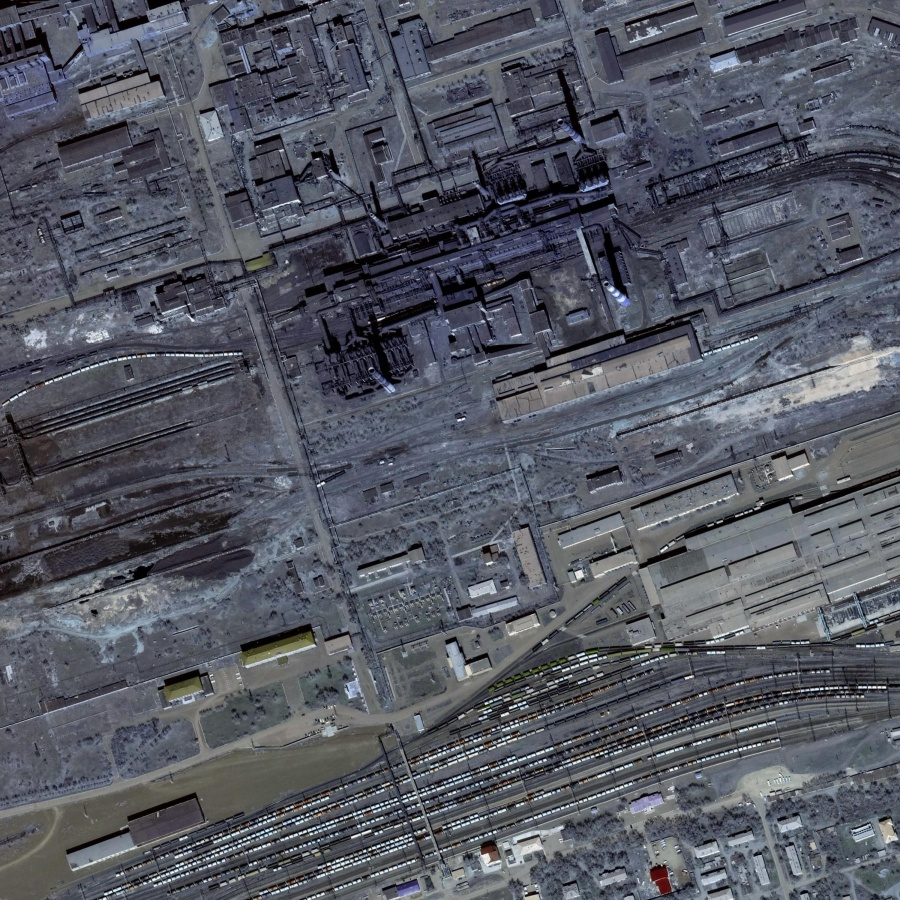PowerPlant: (298, 106, 650, 400)
